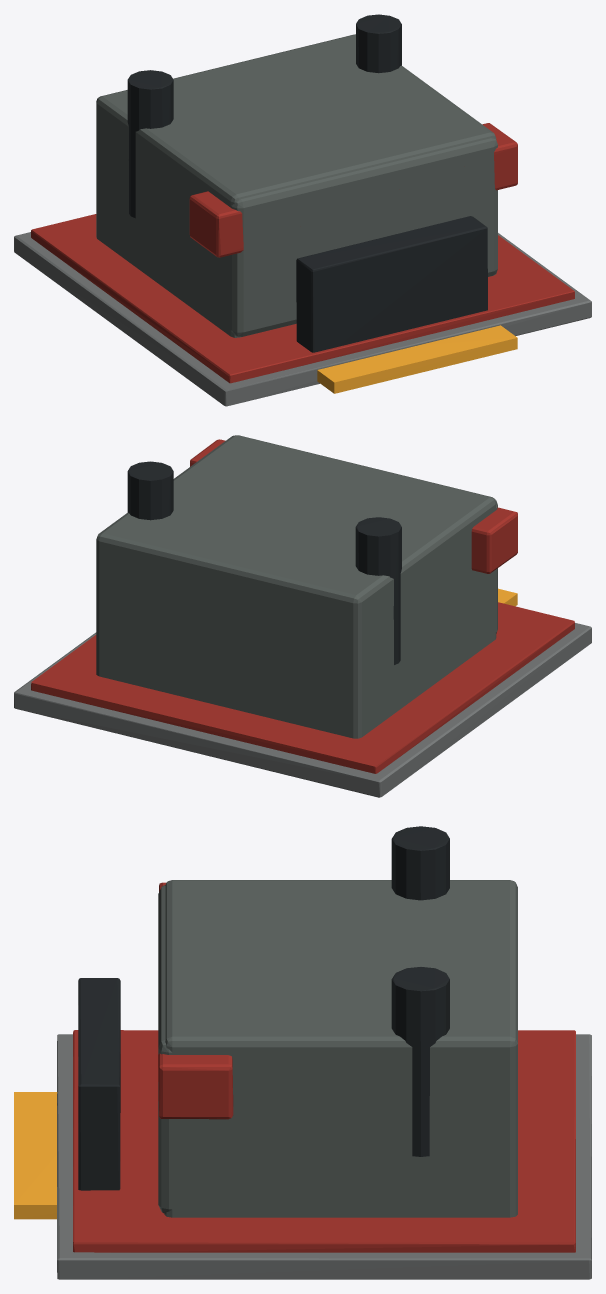
The model's file is SM_Soviet_SU_WarFactory_LOD1.fbx.
3 views of the same model, one above another, from view 1: azimuth 30°, elevation 25°; view 2: azimuth 150°, elevation 25°; view 3: azimuth 270°, elevation 25° (orthographic). The views are drawn at different scales.
Visible parts, largest first — view 1: LOD01_SM_Soviet_SU_WarFactory; view 2: LOD01_SM_Soviet_SU_WarFactory; view 3: LOD01_SM_Soviet_SU_WarFactory.
Boxes of the visible parts, x1,y1,x2,y2 form: LOD01_SM_Soviet_SU_WarFactory: (14,14,591,406); LOD01_SM_Soviet_SU_WarFactory: (14,435,591,797); LOD01_SM_Soviet_SU_WarFactory: (14,826,591,1279).
Size of the model in its own units: 799 by 863 by 428.
